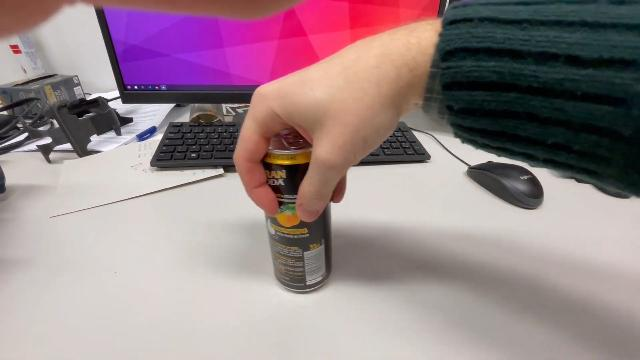OranSoda: (254, 124, 336, 296)
